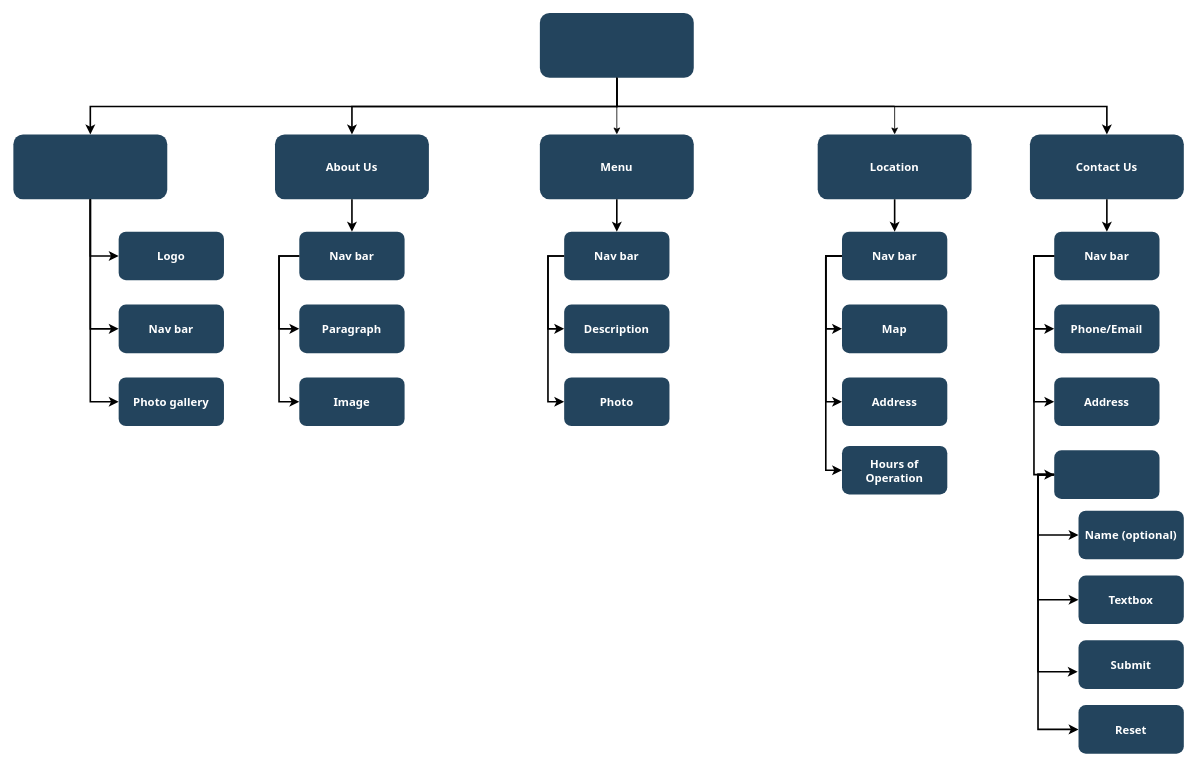
Image size: 1197x767. Some labels were removed from this diagram. Each missing label, with the box of its shape:
Form: (1054, 450, 1159, 499)
Home: (13, 134, 167, 199)
House of Leng: (539, 13, 693, 77)
